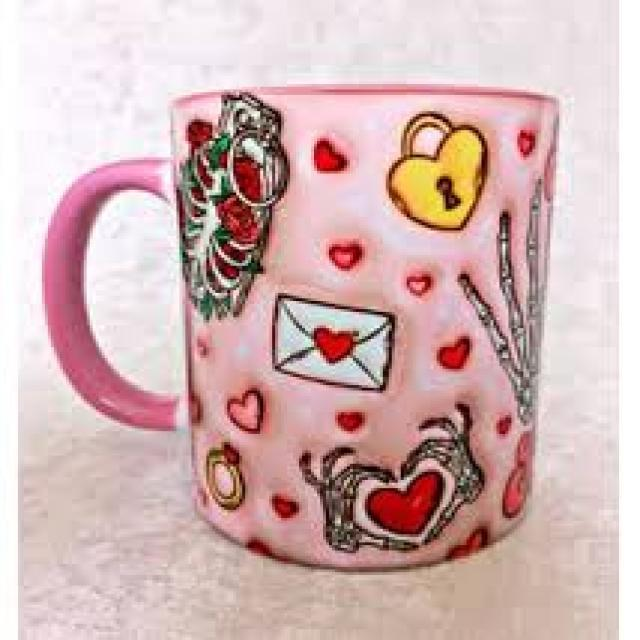taza: (42, 82, 560, 570)
